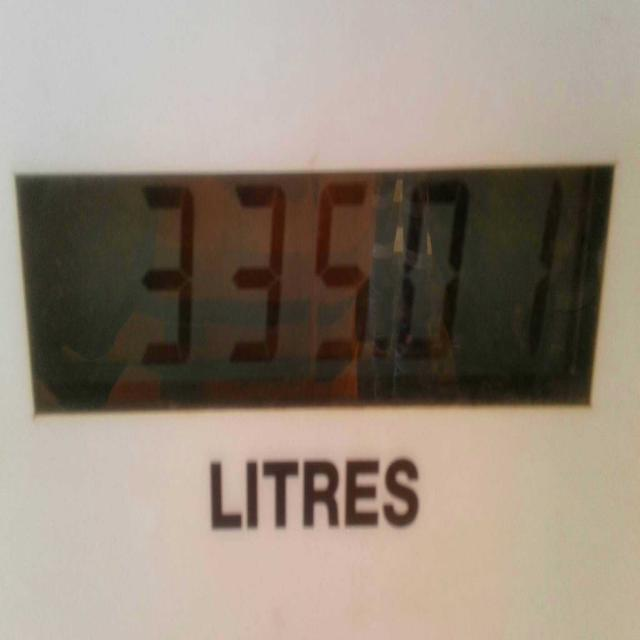.: (359, 322, 391, 394)
0: (394, 176, 488, 358)
1: (516, 157, 572, 379)
3: (218, 183, 308, 373), (136, 178, 203, 372)
5: (298, 165, 374, 400)
